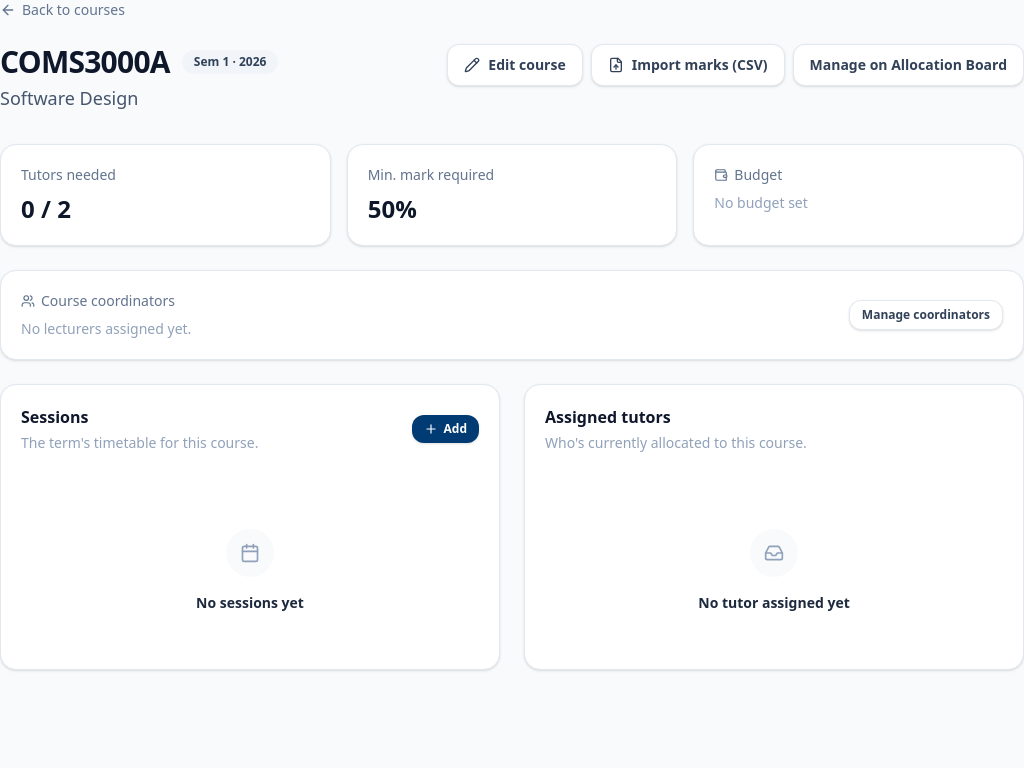
Test: AddSessionModal › prefers the server message over the fallback
Step 1. Click the button "Add" → (445, 429), box 412,415 -> 479,443
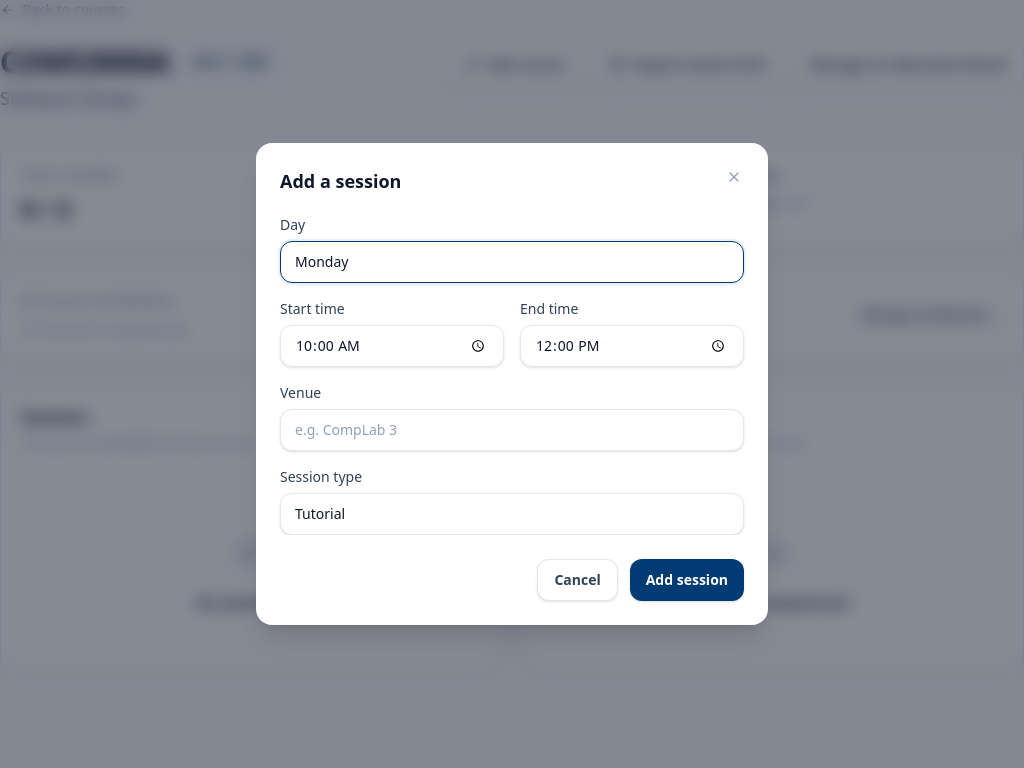
Step 2. Click the button "Add session" → (687, 580), box 630,559 -> 744,601
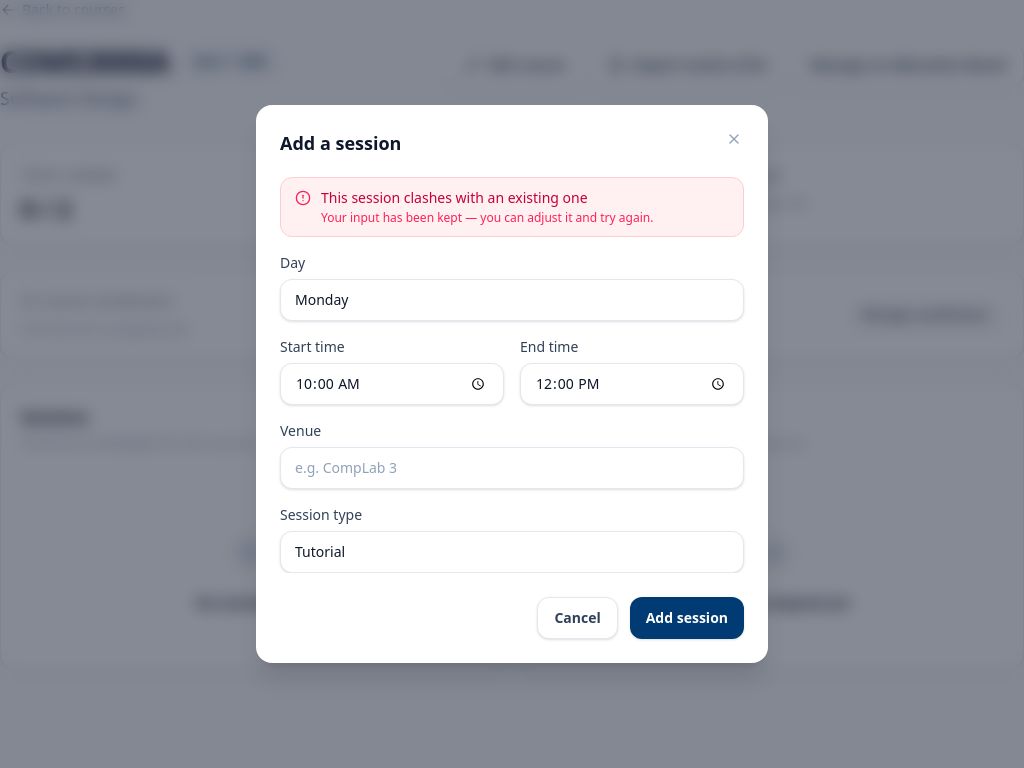
Check: the message does not show "Could not add the session.", box 280,177 -> 744,237
Check: the message shows "This session clashes with an existing one", box 321,188 -> 588,207
